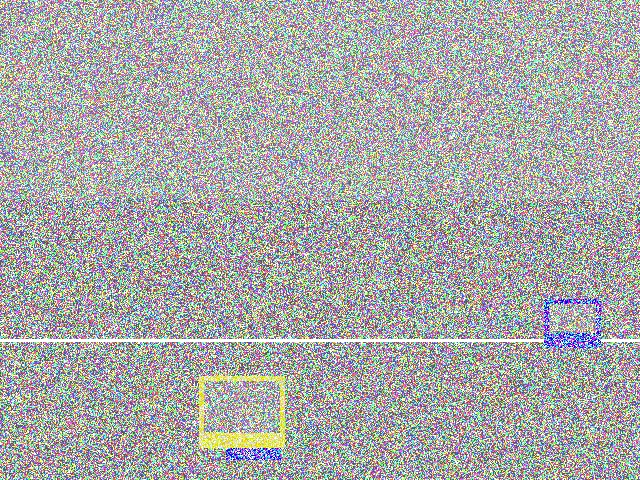bus: (419, 97, 576, 236)
